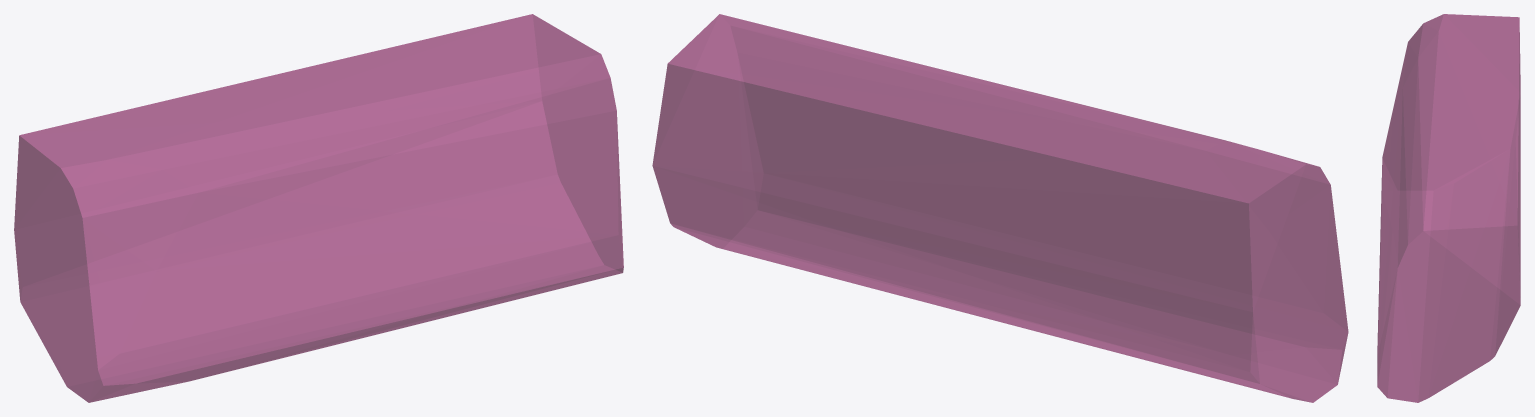
3 views of the same model, side by side, from view 1: azimuth 30°, elevation 25°; view 2: azimuth 150°, elevation 25°; view 3: azimuth 270°, elevation 25° (orthographic). The views are drawn at different scales.
Parts seen in each view (by area): view 1: Shape_IndexedFaceSet.007_Shape_IndexedFaceSet.14054; view 2: Shape_IndexedFaceSet.007_Shape_IndexedFaceSet.14054; view 3: Shape_IndexedFaceSet.007_Shape_IndexedFaceSet.14054.
Boxes of the visible parts, bbox=[...] form: Shape_IndexedFaceSet.007_Shape_IndexedFaceSet.14054: bbox=[14, 14, 623, 402]; Shape_IndexedFaceSet.007_Shape_IndexedFaceSet.14054: bbox=[652, 14, 1348, 402]; Shape_IndexedFaceSet.007_Shape_IndexedFaceSet.14054: bbox=[1377, 14, 1520, 402].
Bounding box in the file's own units: 0.2721 × 0.1055 × 0.0777.
